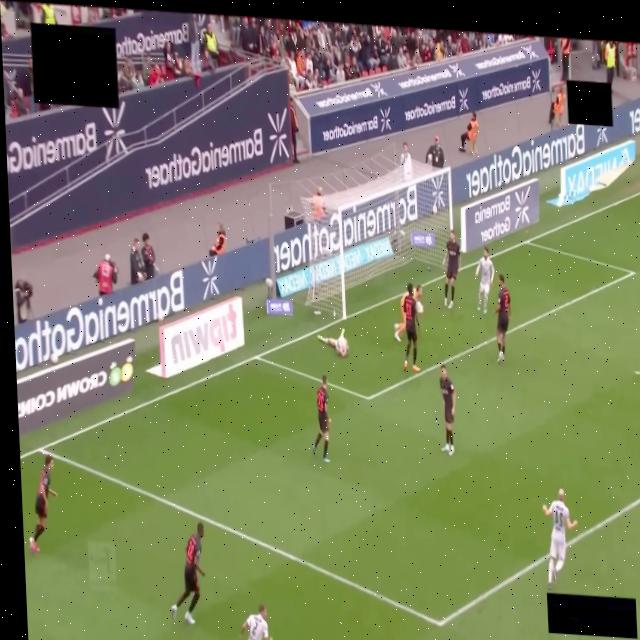ball: (415, 301, 423, 314)
player: (542, 489, 577, 588), (171, 523, 204, 625), (29, 455, 56, 552), (312, 375, 330, 462), (439, 364, 455, 455), (403, 283, 419, 372), (495, 274, 510, 362), (475, 248, 494, 313), (240, 606, 271, 639), (317, 329, 348, 357), (394, 291, 406, 342), (447, 292, 450, 304)
